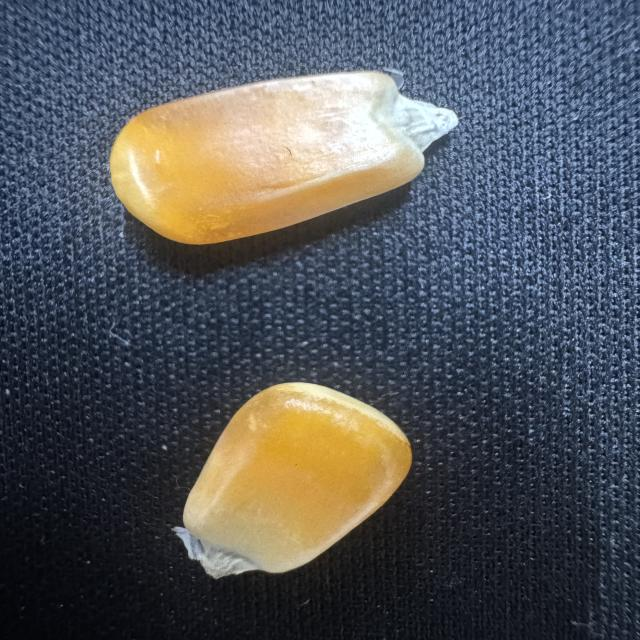Good-Seed: (104, 66, 465, 249), (167, 377, 417, 584)
